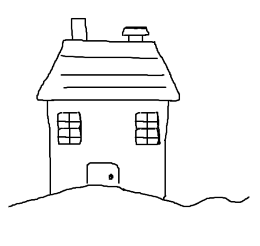chimney: (114, 21, 159, 45), (66, 9, 90, 46)
closed_window: (131, 106, 166, 149), (53, 108, 89, 149)
door: (78, 159, 129, 189)
roof: (29, 36, 193, 104)
wall: (43, 95, 174, 202)
